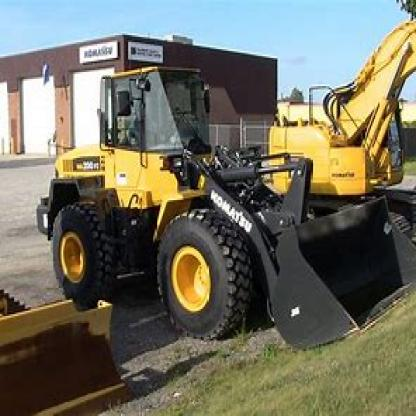bull_dozer/loader/grader: (28, 51, 415, 351)
